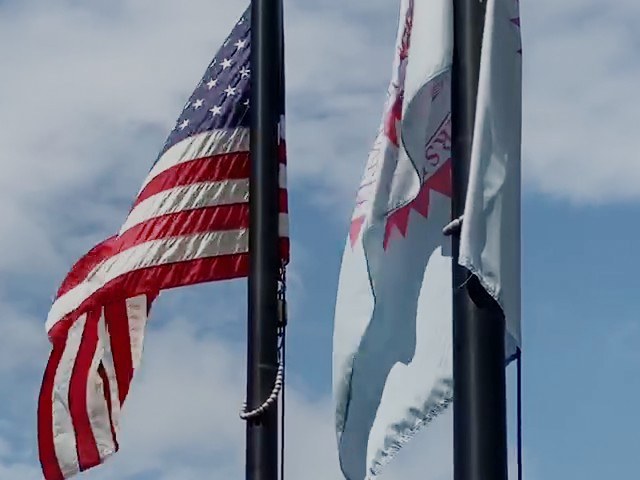America flag: (36, 1, 252, 480)
